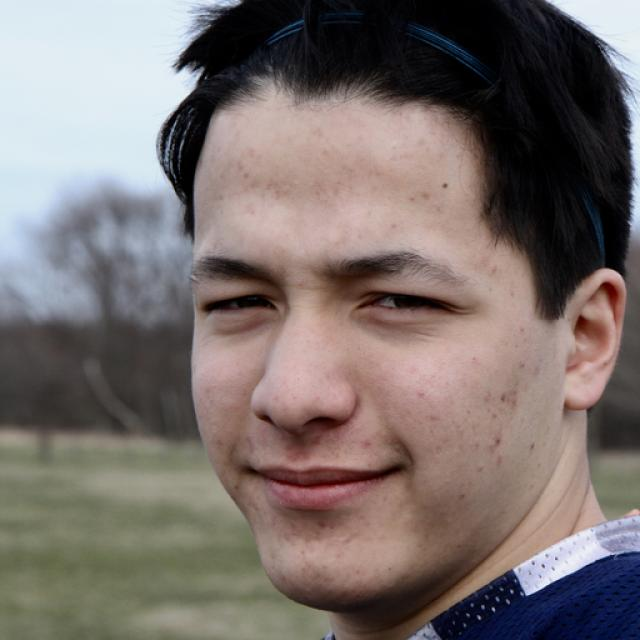Pigmentation: (202, 129, 293, 216), (297, 124, 357, 207)
